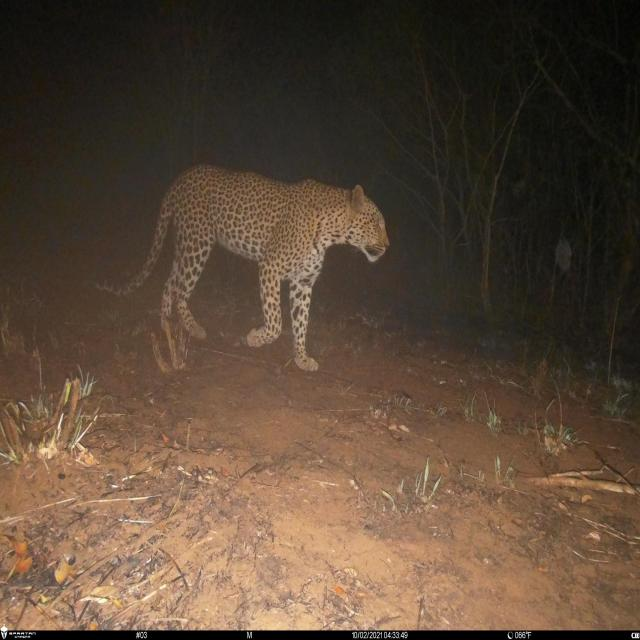Leopard: (97, 156, 381, 372)
